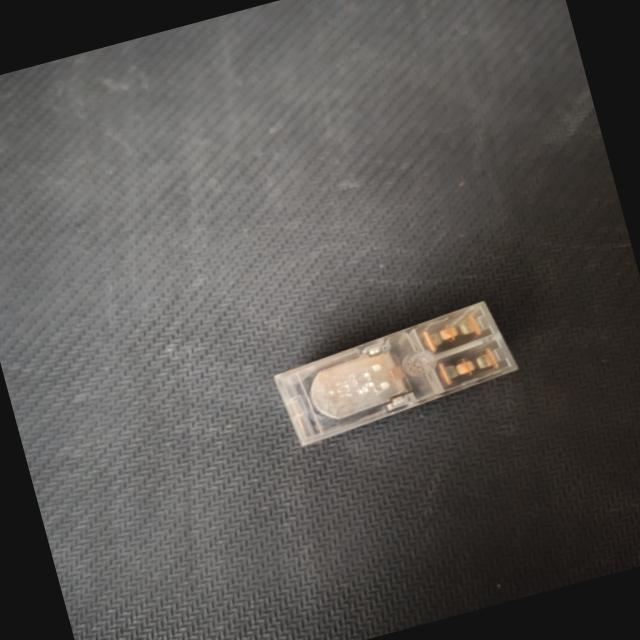relay: (251, 280, 543, 476)
